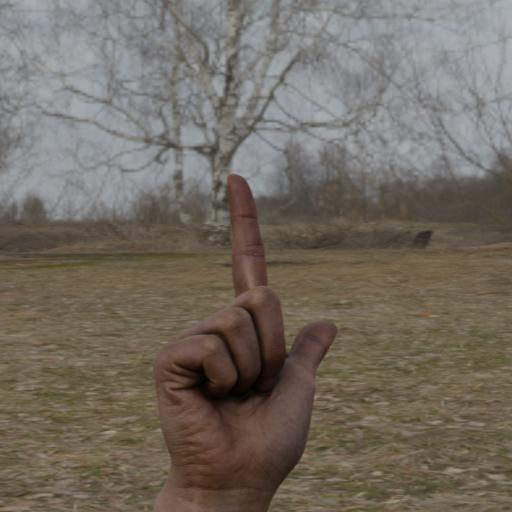L: (141, 163, 346, 497)
